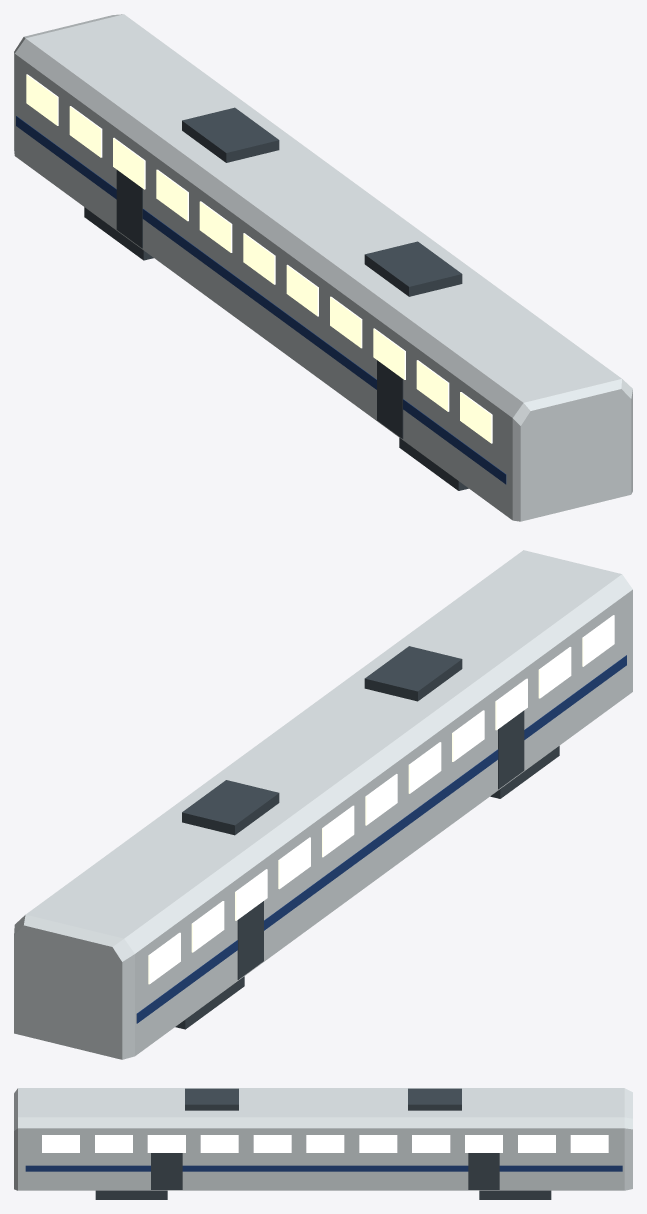
Rendered from shinkansen-car.glb.
3 views of the same model, one above another, from view 1: azimuth 30°, elevation 25°; view 2: azimuth 150°, elevation 25°; view 3: azimuth 270°, elevation 25° (orthographic). The views are drawn at different scales.
Size of the model in its own units: 3.37 by 3.77 by 24.
